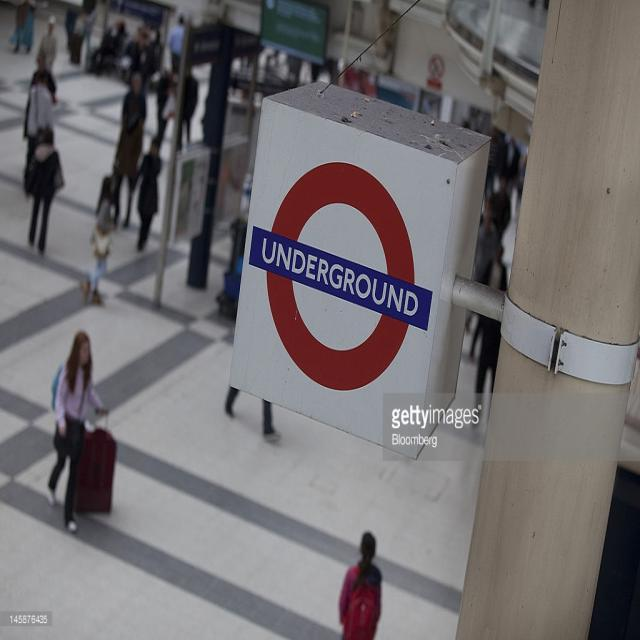body: (0, 2, 211, 229), (448, 106, 528, 437), (214, 216, 278, 448), (42, 327, 108, 537), (21, 121, 65, 257), (113, 71, 148, 230), (336, 530, 384, 639), (468, 241, 509, 366), (22, 68, 57, 200), (82, 172, 116, 306), (469, 313, 502, 429), (137, 136, 162, 251), (472, 203, 500, 286), (152, 56, 172, 155), (7, 0, 35, 56), (490, 171, 512, 238), (183, 59, 199, 145), (39, 14, 60, 74), (168, 11, 186, 77)
